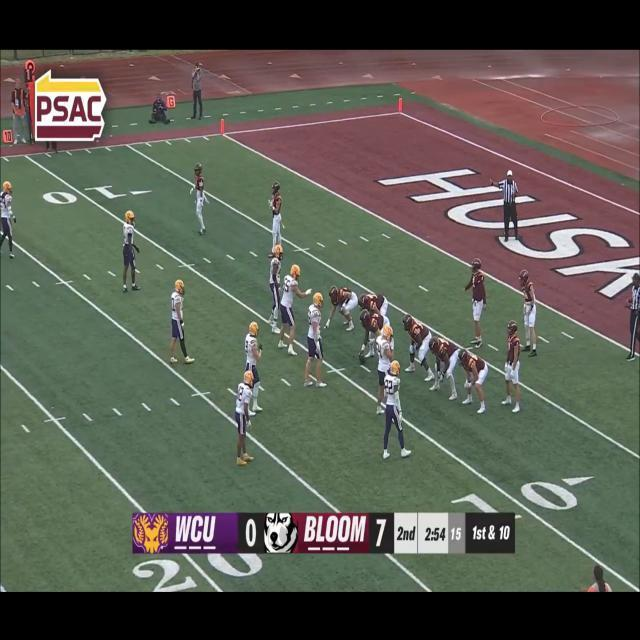football: (357, 348, 368, 366)
